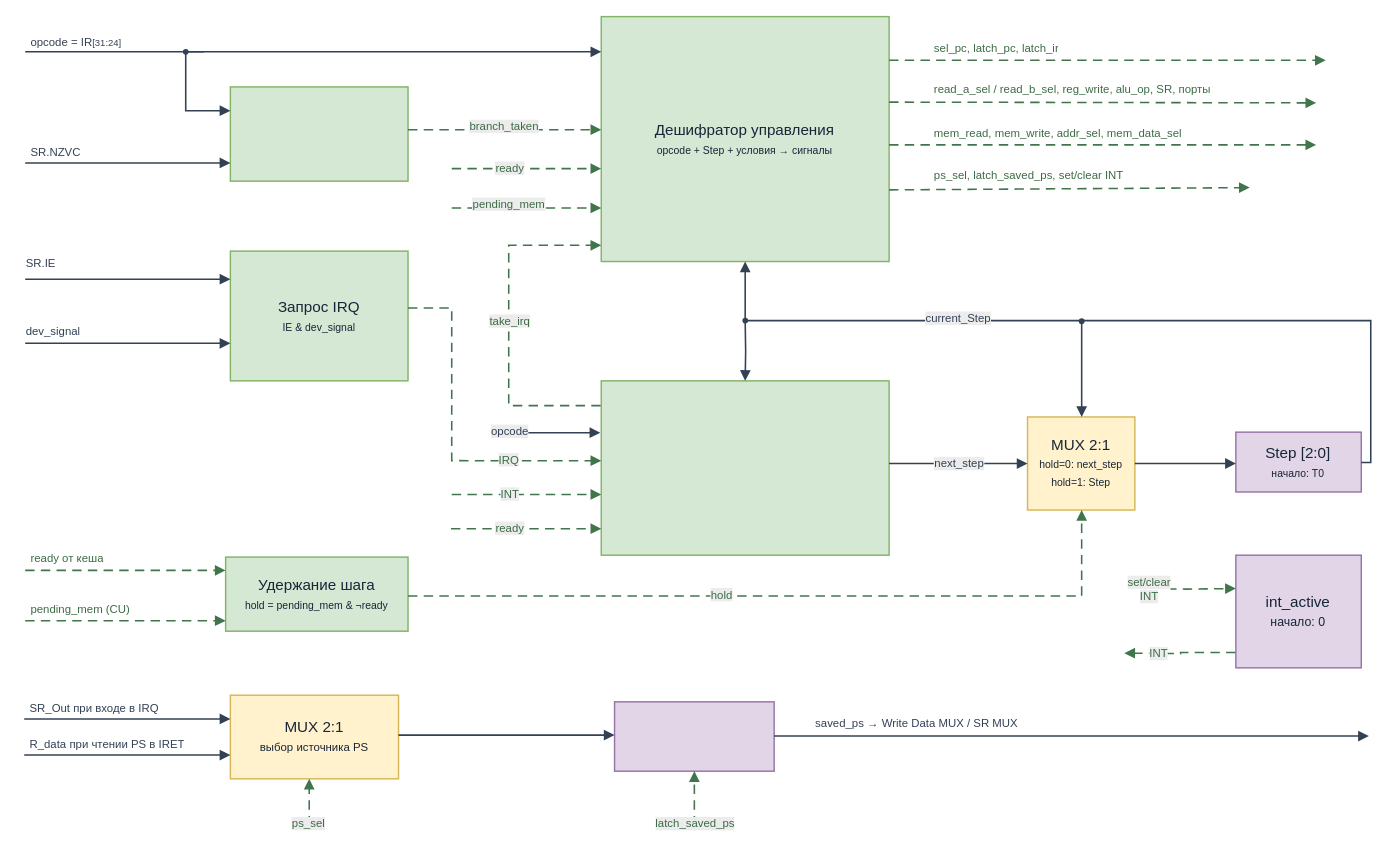
Image size: 1397x851. Some labels were removed from this diagram. Here are the shapes that lost their labels. From the top down, the box of each, then its label:
(229, 86, 408, 181): Условие перехода
(600, 380, 889, 555): Логика следующего шага Step + opcode + условия → next_step
(613, 701, 774, 771): saved_ps 32 бита
